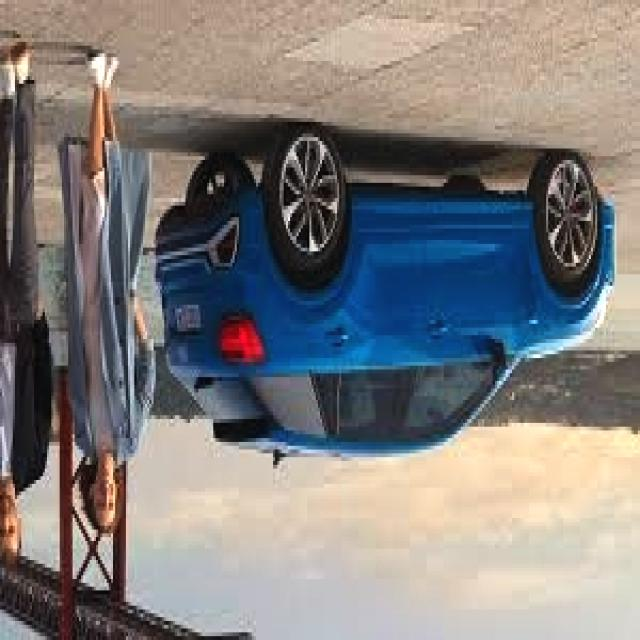blue: (167, 136, 613, 449)
